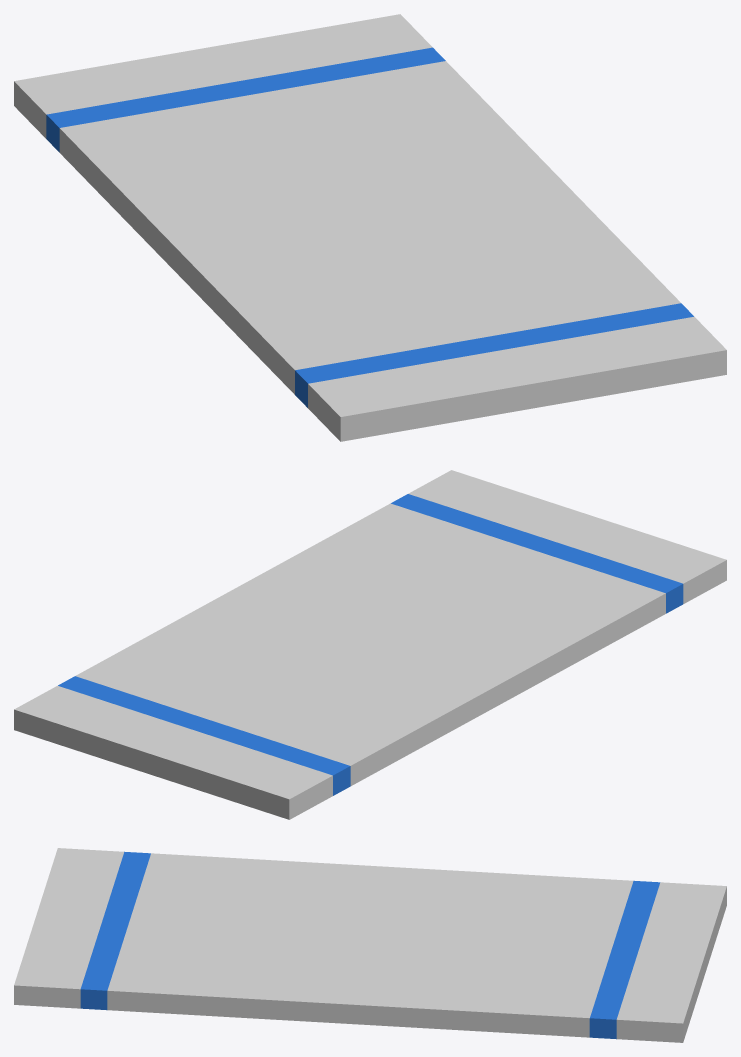
Rendered from Towel1.fbx.
3 views of the same model, one above another, from view 1: azimuth 30°, elevation 25°; view 2: azimuth 150°, elevation 25°; view 3: azimuth 270°, elevation 25° (orthographic). The views are drawn at different scales.
Parts seen in each view (by area): view 1: Towel1; view 2: Towel1; view 3: Towel1.
Boxes of the visible parts, bbox=[...] form: Towel1: bbox=[14, 14, 726, 441]; Towel1: bbox=[14, 470, 726, 819]; Towel1: bbox=[14, 848, 726, 1042].
Bounding box in the file's own units: 1.04 × 0.0536 × 1.78.
